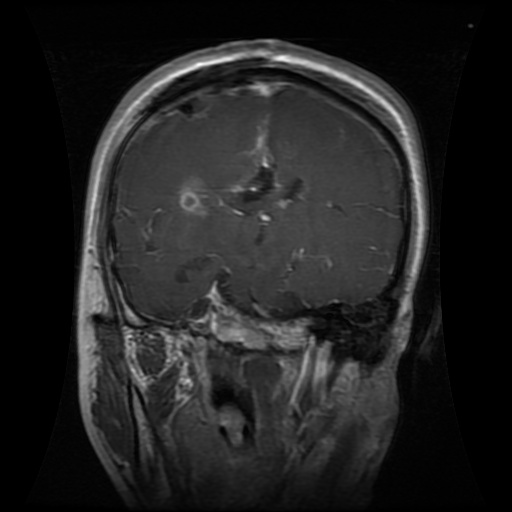glioma: (176, 113, 313, 222)
